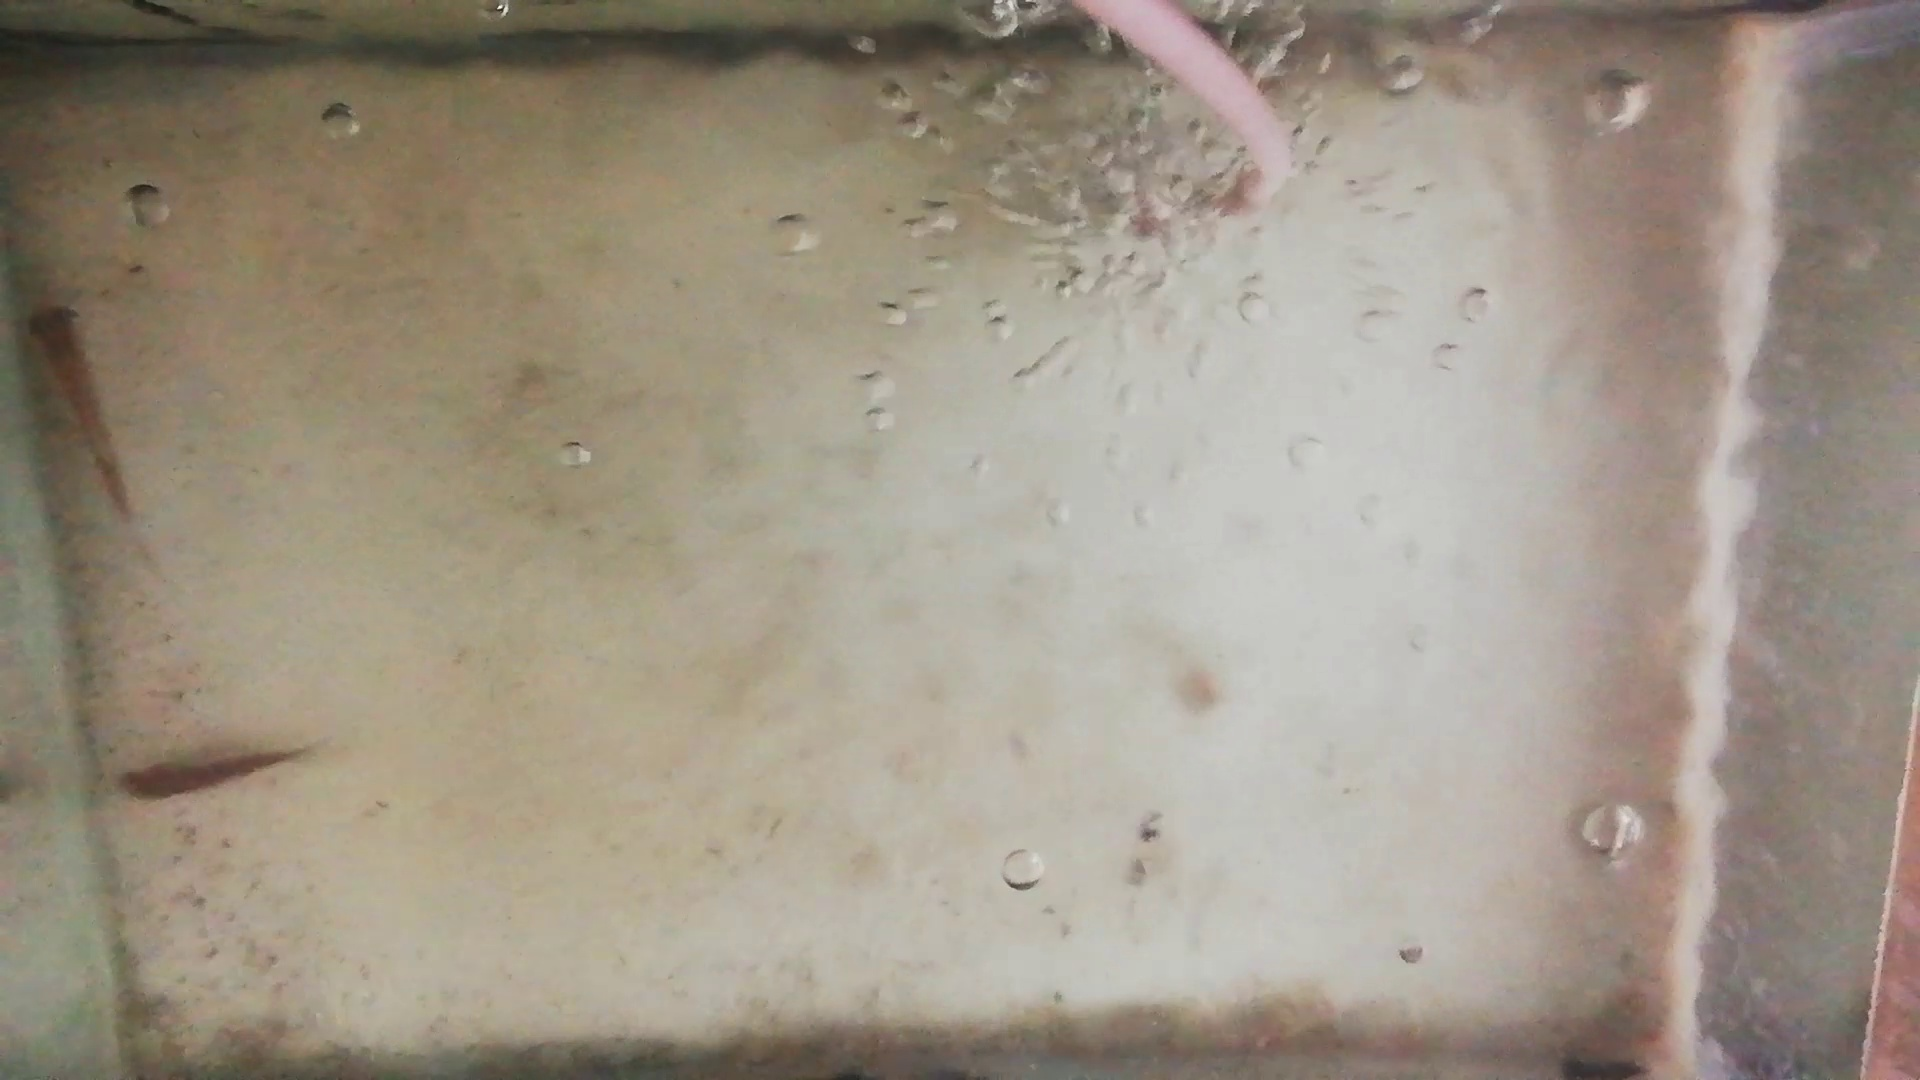fish: (26, 305, 133, 521), (119, 750, 293, 800)
